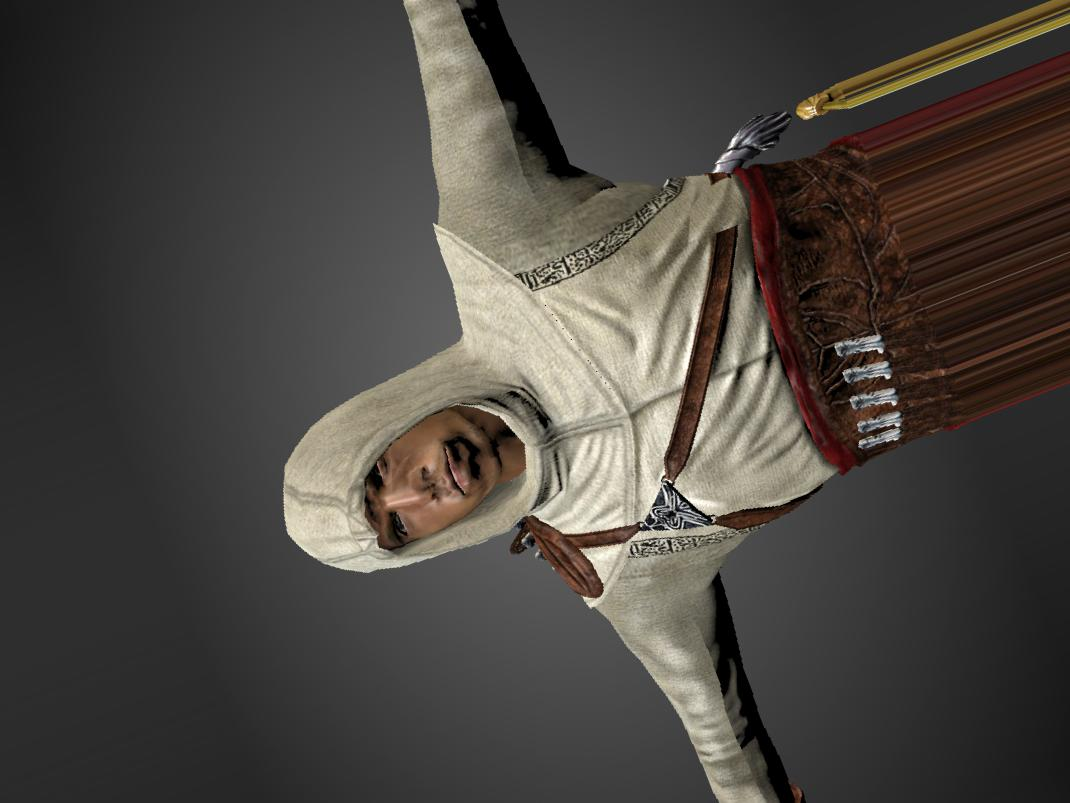clip: (692, 169, 753, 237)
